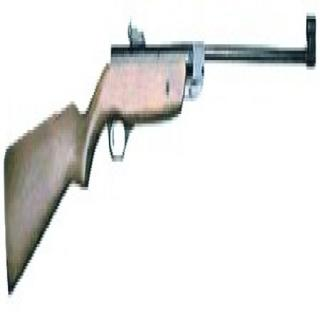gun: (5, 19, 316, 298)
